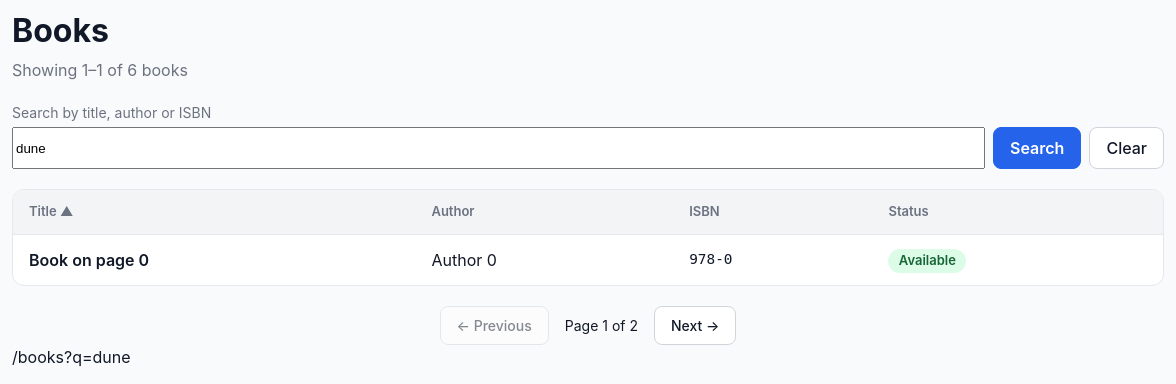
Test case: BooksPage › keeps the search text when sorting and when changing page
Step 1. Click the button "Next →" → x=695, y=325, box [654,306,736,345]
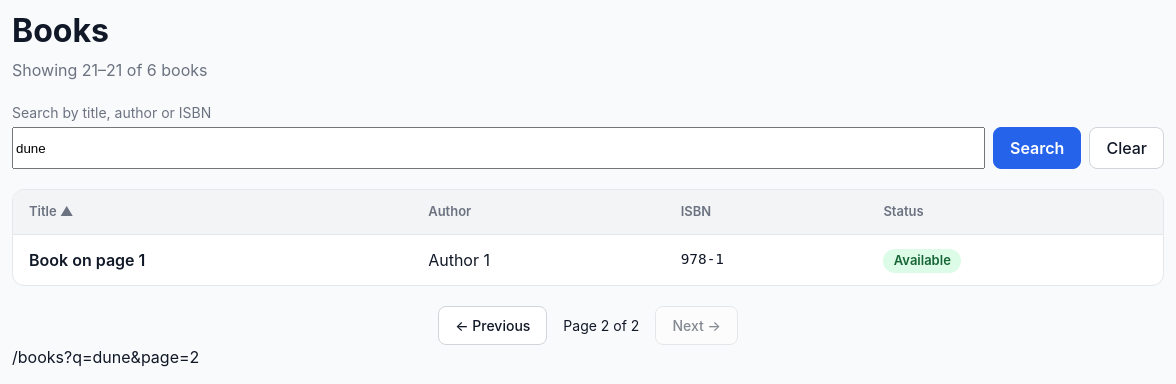
Result: the text with test id "url" reads "/books?q=dune&page=2" at [12,347,199,367]
Step 2. Click the button "Author" → x=450, y=212, box [428,202,471,222]
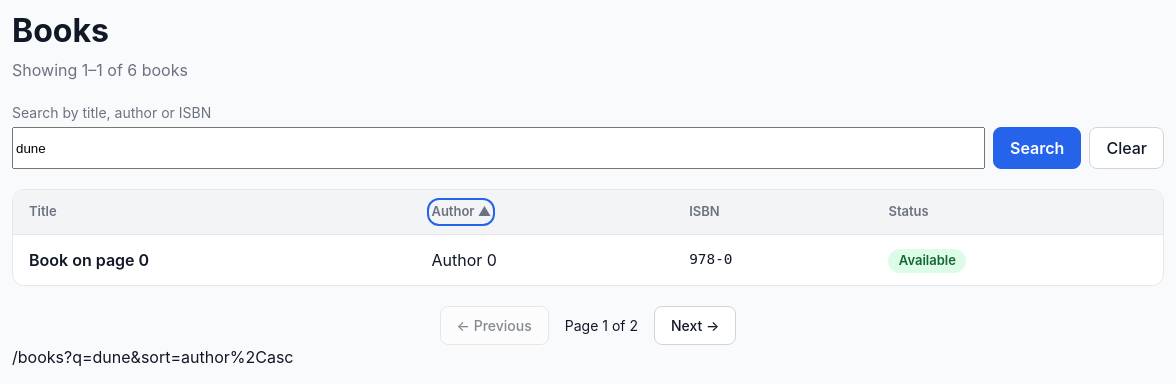
Result: the text with test id "url" reads "/books?q=dune&sort=author%2Casc" at [12,347,294,367]
